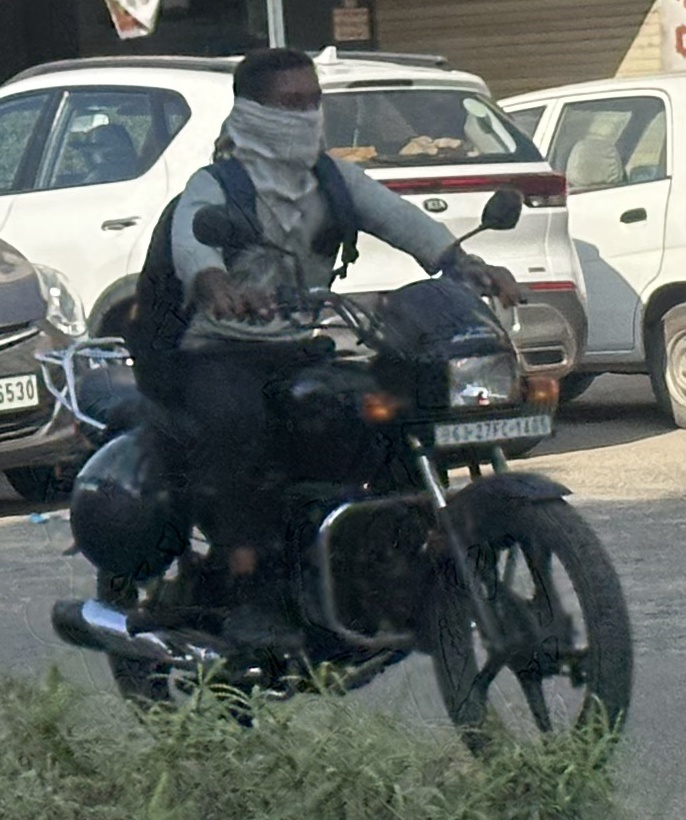BikeWithRider: (39, 37, 645, 801)
NoHelmet: (222, 38, 333, 176)
